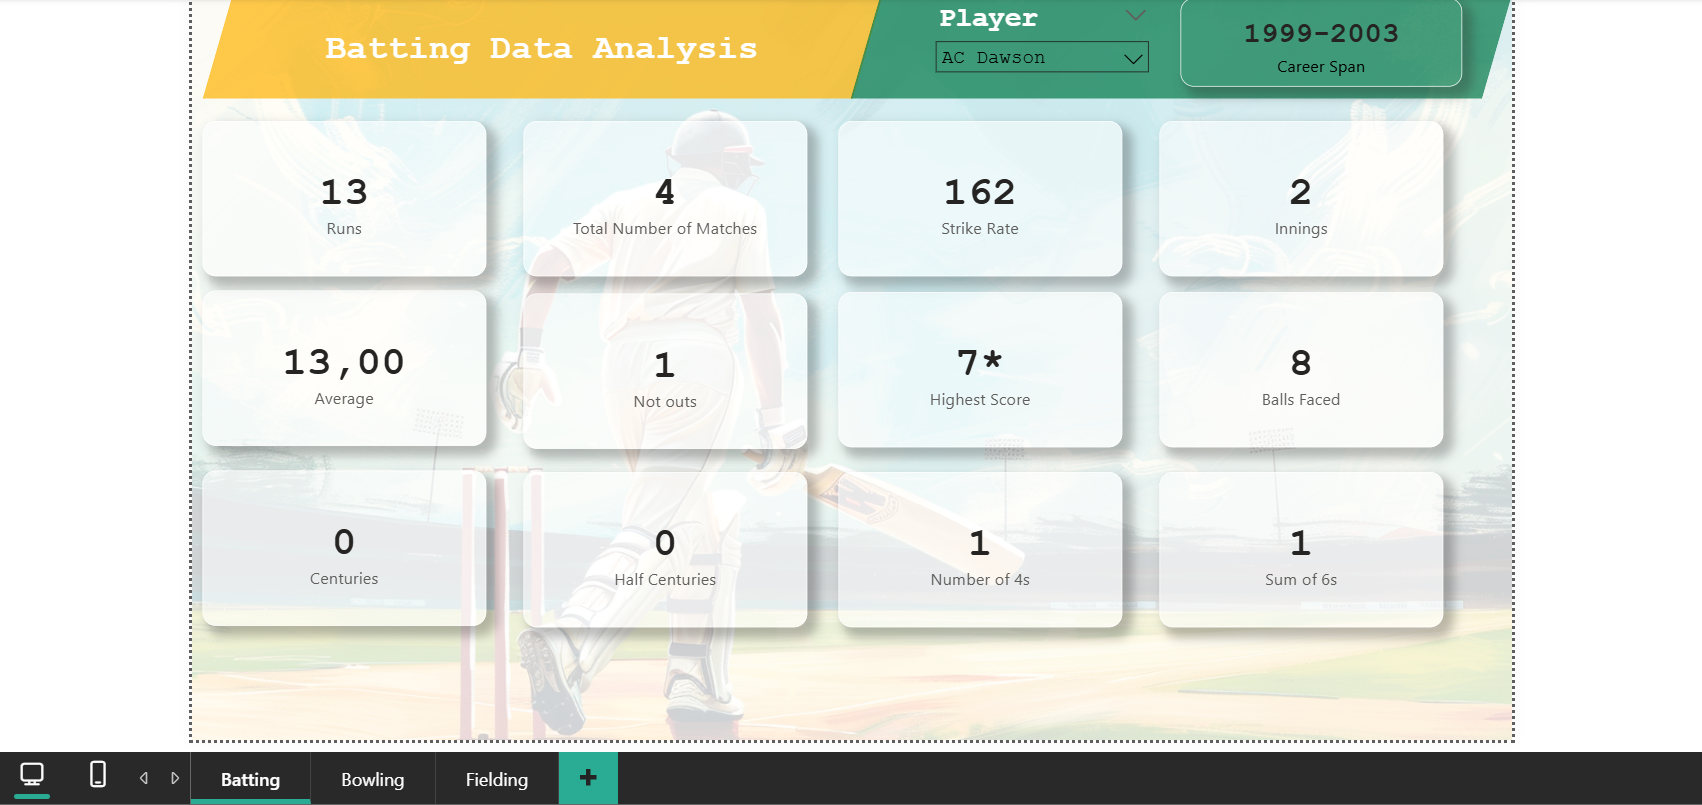

This screenshot's page, from the dashboard's own definition file:
{"tool":"powerbi","page":{"name":"Batting","canvas":[1280,720],"ordinal":0},"visuals":[{"type":"shape","box":[9.9,0,659.3,97.7],"z":0},{"type":"shape","box":[638.9,0,641.1,97.7],"z":1000},{"type":"slicer","fields":{"Values":["Batting.Player"]},"box":[712.3,0,226.9,97.7],"z":2000},{"type":"card","fields":{"Values":["Min(Batting.Span)"]},"box":[959.1,0,273.3,86.1],"z":3000},{"type":"card","fields":{"Values":["Sum(Batting.Mat)"]},"box":[321.4,119.3,275,150.7],"z":4000},{"type":"card","fields":{"Values":["Sum(Batting.SR)"]},"box":[627.8,119.3,275,150.7],"z":5000},{"type":"card","fields":{"Values":["Sum(Batting.Inns)"]},"box":[939.2,119.3,275,150.7],"z":6000},{"type":"card","fields":{"Values":["Sum(Batting.NO)"]},"box":[321.4,286.6,275,150.7],"z":7000},{"type":"card","fields":{"Values":["Sum(Batting.Runs)"]},"box":[9.9,119.3,275,150.7],"z":8000},{"type":"card","fields":{"Values":["Min(Batting.HS)"]},"box":[627.8,284.9,275,150.7],"z":9000},{"type":"card","fields":{"Values":["Sum(Batting.BF)"]},"box":[939.2,284.9,275,150.7],"z":10000},{"type":"card","fields":{"Values":["Sum(Batting.Ave)"]},"box":[9.9,283.3,275,150.7],"z":11000},{"type":"card","fields":{"Values":["Sum(Batting.100)"]},"box":[9.9,458.8,275,150.7],"z":12000},{"type":"card","fields":{"Values":["Sum(Batting.50)"]},"box":[321.4,460.5,275,150.7],"z":13000},{"type":"card","fields":{"Values":["Sum(Batting.4s)"]},"box":[627.8,460.5,275,150.7],"z":14000},{"type":"card","fields":{"Values":["Sum(Batting.6s)"]},"box":[939.2,460.5,275,150.7],"z":15000}]}

Visuals, with their boxes on the page's 1280x720 design canvas (x1, y1, x2, y2). These are canvas units, not pixel positions in the 1702x805 screenshot, which may show the page scaled, cropped or inside an application window:
shape: box=[10, 0, 669, 98]
shape: box=[639, 0, 1280, 98]
slicer - Batting.Player: box=[712, 0, 939, 98]
card - Min(Batting.Span): box=[959, 0, 1232, 86]
card - Sum(Batting.Mat): box=[321, 119, 596, 270]
card - Sum(Batting.SR): box=[628, 119, 903, 270]
card - Sum(Batting.Inns): box=[939, 119, 1214, 270]
card - Sum(Batting.NO): box=[321, 287, 596, 437]
card - Sum(Batting.Runs): box=[10, 119, 285, 270]
card - Min(Batting.HS): box=[628, 285, 903, 436]
card - Sum(Batting.BF): box=[939, 285, 1214, 436]
card - Sum(Batting.Ave): box=[10, 283, 285, 434]
card - Sum(Batting.100): box=[10, 459, 285, 610]
card - Sum(Batting.50): box=[321, 460, 596, 611]
card - Sum(Batting.4s): box=[628, 460, 903, 611]
card - Sum(Batting.6s): box=[939, 460, 1214, 611]
